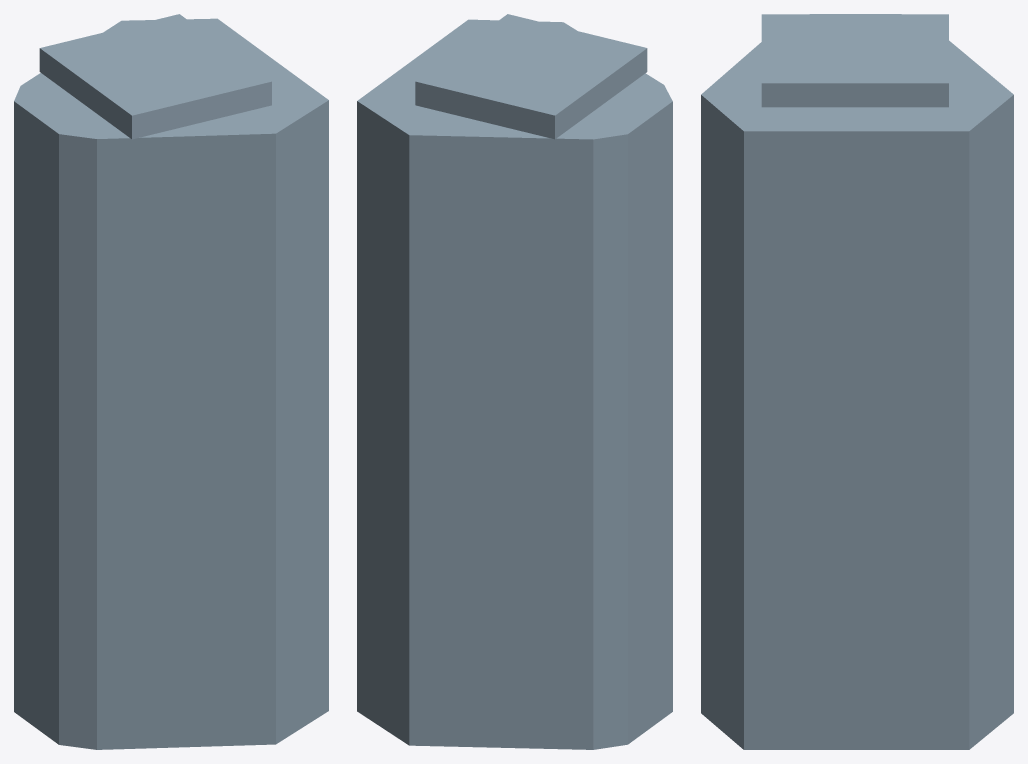
File: shiba_park_hotel_south_far.glb
3 views of the same model, side by side, from view 1: azimuth 30°, elevation 25°; view 2: azimuth 150°, elevation 25°; view 3: azimuth 270°, elevation 25° (orthographic).
Parts seen in each view (by area): view 1: ShibaParkHotelSouth_Far; view 2: ShibaParkHotelSouth_Far; view 3: ShibaParkHotelSouth_Far.
Boxes of the visible parts, x1,y1,x2,y2 form: ShibaParkHotelSouth_Far: (14,14,328,749); ShibaParkHotelSouth_Far: (357,14,672,749); ShibaParkHotelSouth_Far: (701,14,1013,749).
Bounding box in the file's own units: 44.8 × 114 × 50.5.
